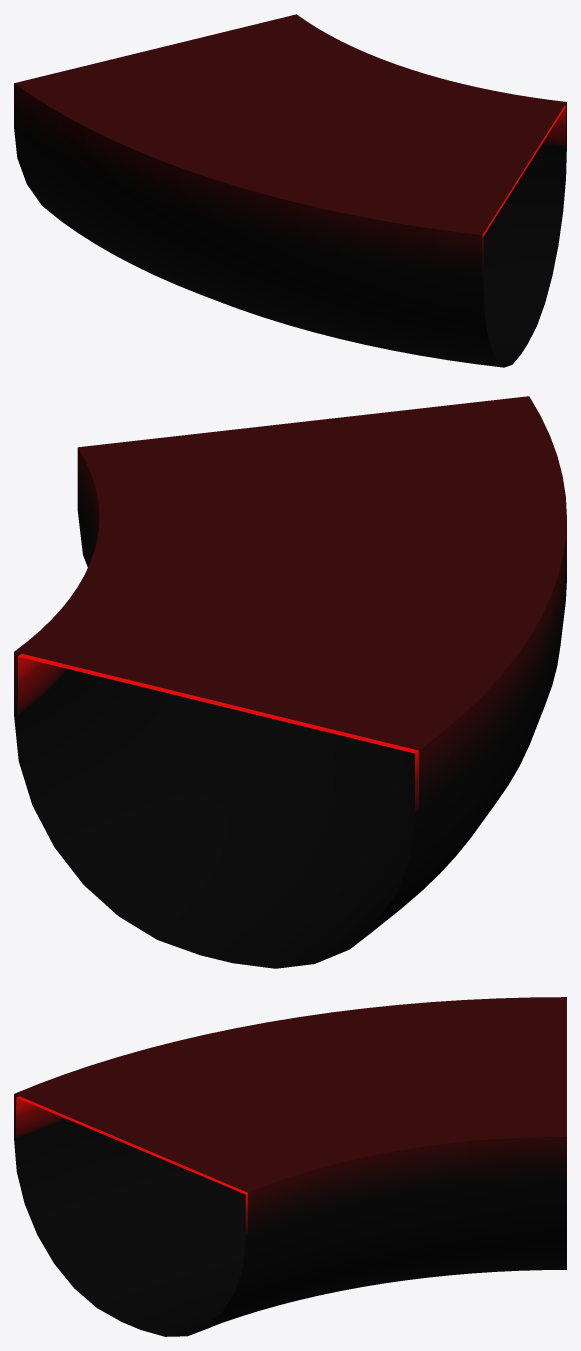
File: gutter_corner_water_02.fbx
3 views of the same model, one above another, from view 1: azimuth 30°, elevation 25°; view 2: azimuth 150°, elevation 25°; view 3: azimuth 270°, elevation 25° (orthographic). The views are drawn at different scales.
Visible parts, largest first — view 1: Cube.058; view 2: Cube.058; view 3: Cube.058.
Boxes of the visible parts, bbox=[...] form: Cube.058: bbox=[14, 14, 566, 367]; Cube.058: bbox=[14, 396, 566, 968]; Cube.058: bbox=[14, 997, 566, 1336].
Size of the model in its own units: 0.7508 by 0.3267 by 0.8969.
